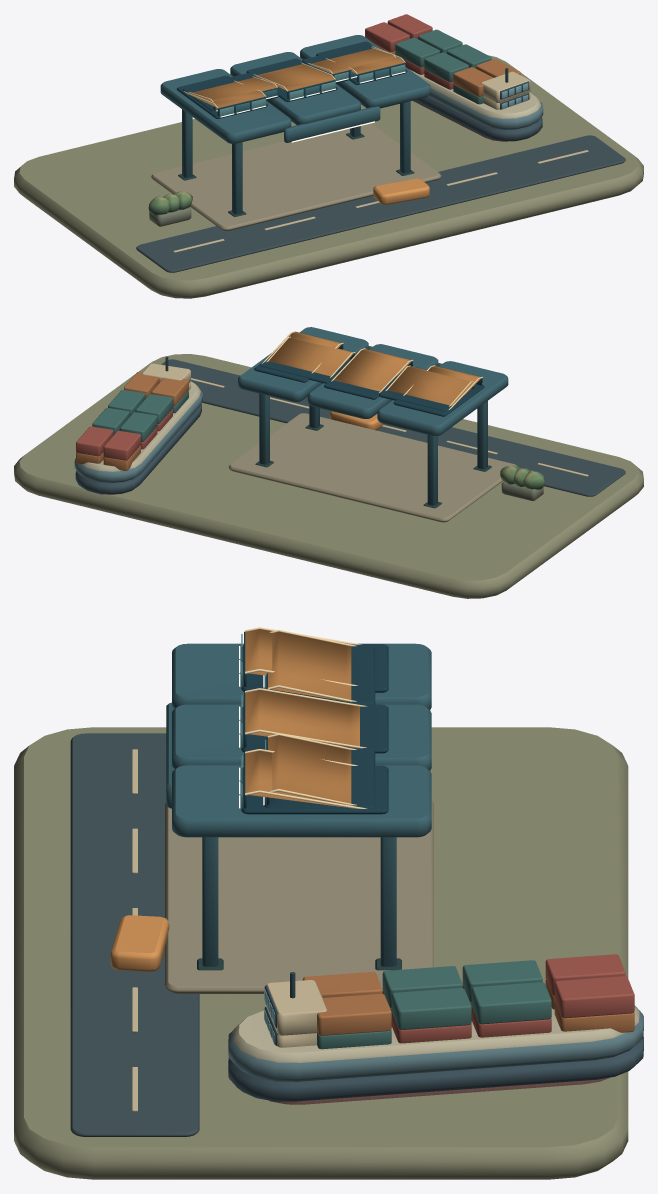
Rendered from harbor_atlas.glb.
3 views of the same model, one above another, from view 1: azimuth 30°, elevation 25°; view 2: azimuth 150°, elevation 25°; view 3: azimuth 270°, elevation 25° (orthographic). The views are drawn at different scales.
Parts seen in each view (by area): view 1: HarborAtlas; view 2: HarborAtlas; view 3: HarborAtlas.
Part boxes in pixels (x1,y1,x2,y2): HarborAtlas: [14, 14, 643, 298]; HarborAtlas: [14, 327, 643, 598]; HarborAtlas: [14, 627, 643, 1179].
Size of the model in its own units: 10.8 by 2.67 by 6.71.
